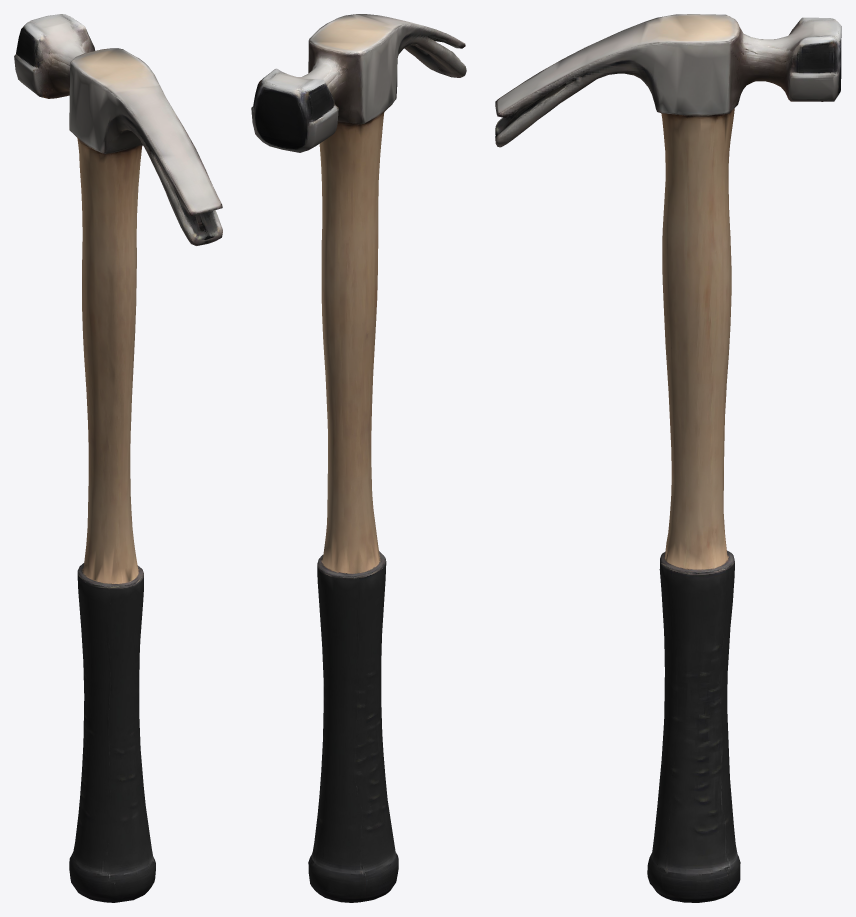
The model's file is asset.glb.
3 renders of one model, left to right at view 1: azimuth 30°, elevation 25°; view 2: azimuth 150°, elevation 25°; view 3: azimuth 270°, elevation 25°, orthographic. The views are drawn at different scales.
Parts seen in each view (by area): view 1: world; view 2: world; view 3: world.
Boxes of the visible parts, bbox=[...] form: world: bbox=[14, 14, 222, 902]; world: bbox=[251, 14, 466, 902]; world: bbox=[495, 14, 841, 902].
Bounding box in the file's own units: 0.0926 × 1 × 0.3653.
Materials: 1 (1 with a texture image).
